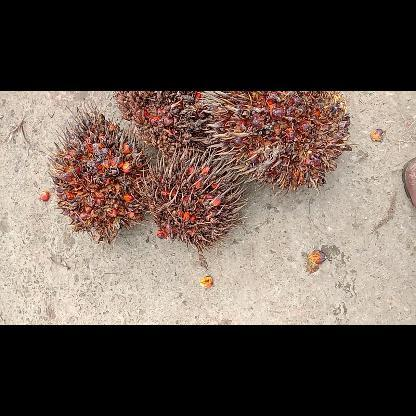Terlalu masak: (201, 90, 355, 196), (46, 100, 154, 247), (132, 137, 252, 251), (110, 90, 212, 162)
